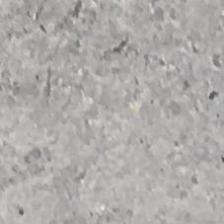Non_Crack: (11, 18, 202, 224)
